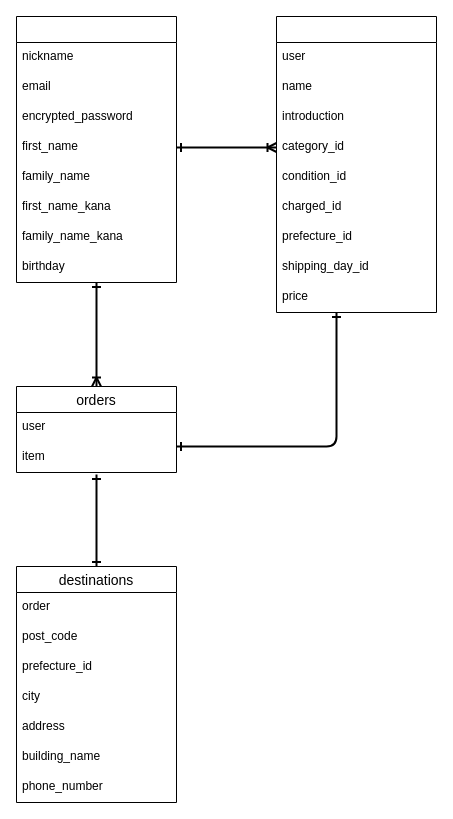
Some shapes in this 453 by 819 pixel diagram are drawn without their labels. The box of each missing label's shape, as (x1, y1, x2, y2) in pixels:
items: (276, 16, 436, 312)
users: (16, 16, 176, 282)
